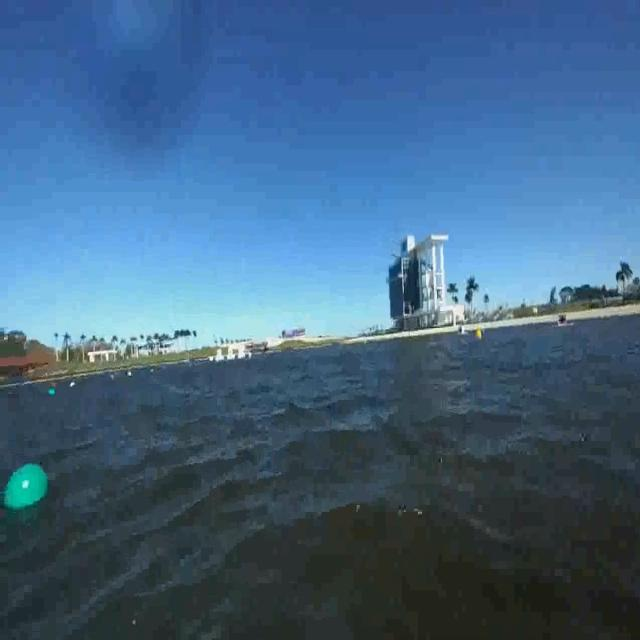green-buoy: (4, 463, 54, 515)
